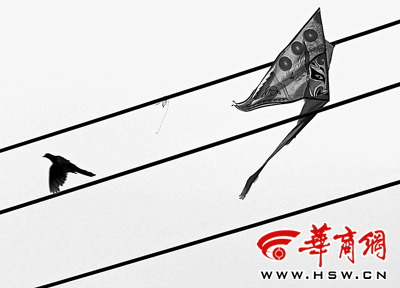kite: (230, 5, 333, 202)
